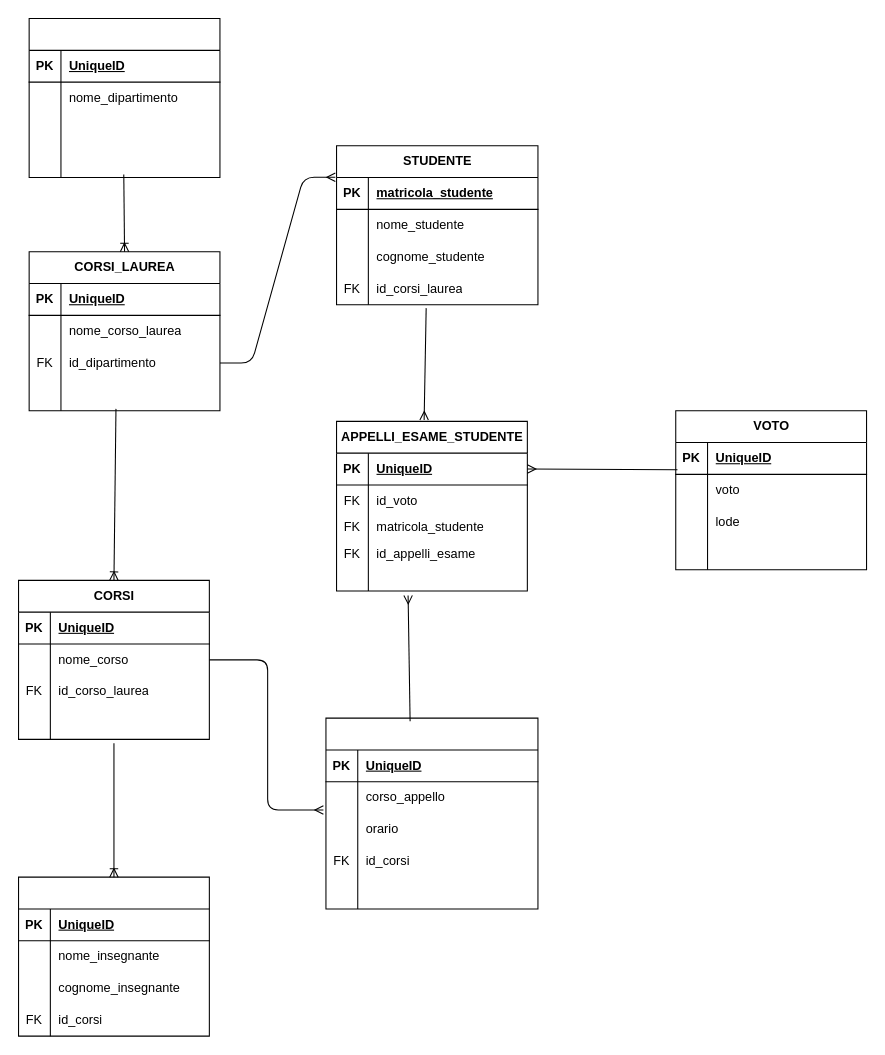
The diagram is 885 pixels wide and 1055 high, and some of its shapes have lost their labels. The box of each missing label's shape, as (x1, y1, x2, y2) in pixels:
APPELLI_ESAME: (325, 717, 538, 909)
DIPARTIMENTI: (28, 17, 220, 178)
INSEGNANTI: (17, 876, 209, 1036)
